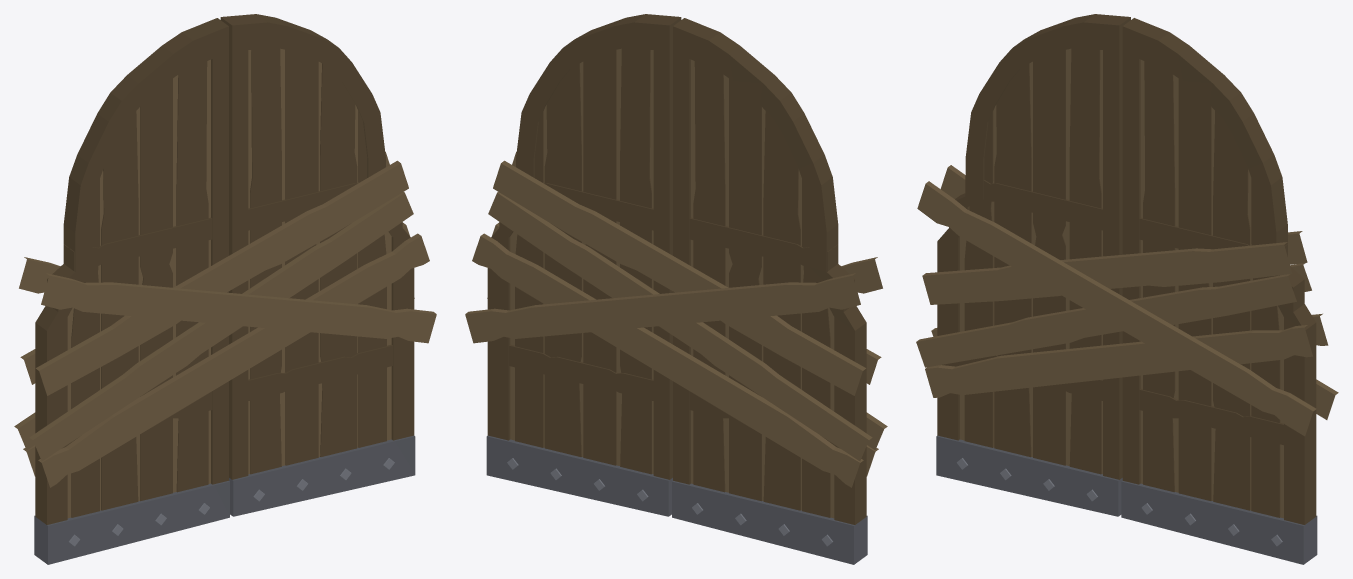
Rendered from Doors_RoundArch_Covered.glb.
3 renders of one model, left to right at view 1: azimuth 30°, elevation 25°; view 2: azimuth 150°, elevation 25°; view 3: azimuth 330°, elevation 25°, orthographic.
Visible parts, largest first — view 1: Doors_RoundArch_Covered; view 2: Doors_RoundArch_Covered; view 3: Doors_RoundArch_Covered.
Boxes of the visible parts, bbox=[...] form: Doors_RoundArch_Covered: bbox=[14, 14, 436, 564]; Doors_RoundArch_Covered: bbox=[465, 14, 887, 564]; Doors_RoundArch_Covered: bbox=[916, 14, 1338, 564].
Size of the model in its own units: 2.52 by 2.97 by 0.2788.
